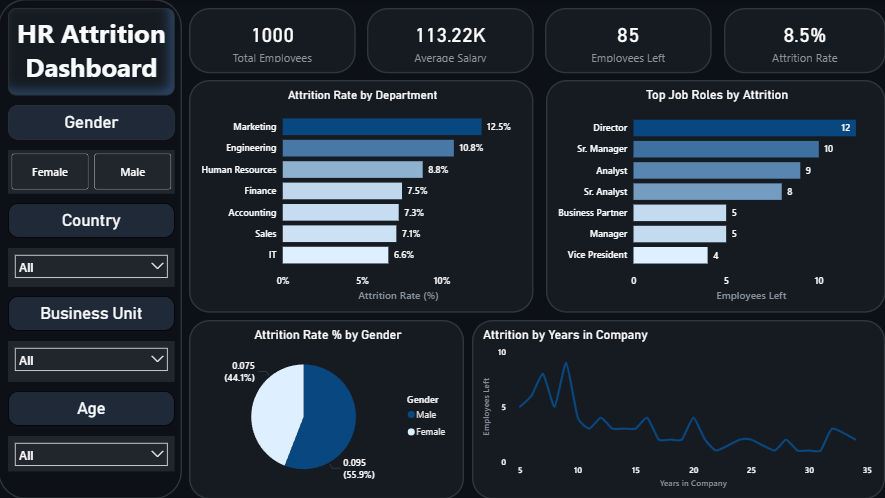

Layout of this report page (visuals, bound fields, positions):
{"tool":"powerbi","page":{"name":"HR Dashboard","canvas":[1280,720],"ordinal":0},"visuals":[{"type":"shape","box":[0,0,264.9,720],"z":0},{"type":"card","fields":{"Values":["TBL_Employees.Total Employees"]},"box":[275.1,13.2,240,93.7],"z":1000},{"type":"card","fields":{"Values":["TBL_Employees.Avg Salary"]},"box":[531.7,13.2,240,93.7],"z":2000},{"type":"card","fields":{"Values":["TBL_Employees.Attrition Count"]},"box":[788.3,13.2,240,93.7],"z":3000},{"type":"card","fields":{"Values":["TBL_Employees.Attrition Rate %"]},"box":[1044.9,13.2,232.7,93.7],"z":4000},{"type":"textbox","box":[14.6,13.2,240,125.9],"z":5000},{"type":"barChart","title":"Attrition Rate by Department","fields":{"Category":["TBL_Employees.Department"],"Y":["TBL_Employees.Attrition Rate %"]},"box":[275.1,117.1,496.1,335.1],"z":6000},{"type":"barChart","title":"Top Job Roles by Attrition","fields":{"Y":["TBL_Employees.Attrition Count"],"Category":["TBL_Employees.Job Title"]},"box":[788.8,117.1,488.8,335.1],"z":7000},{"type":"lineChart","title":"Attrition by Years in Company","fields":{"Category":["TBL_Employees.Years in Company"],"Y":["TBL_Employees.Attrition Count"]},"box":[275.1,462.4,1002.4,257.6],"z":8000},{"type":"advancedSlicerVisual","fields":{"Values":["TBL_Employees.Gender"]},"box":[14.6,217.3,240,62.9],"z":9000},{"type":"textbox","box":[14.6,153.2,240,50],"z":10000},{"type":"slicer","fields":{"Values":["TBL_Employees.Country"]},"box":[14.6,358.5,240,55.6],"z":11000},{"type":"textbox","box":[14.6,294.4,240,50],"z":12000},{"type":"slicer","fields":{"Values":["TBL_Employees.Business Unit"]},"box":[14.6,492.4,240,58.5],"z":13000},{"type":"slicer","fields":{"Values":["TBL_Employees.Age Group"]},"box":[14.6,629.3,240,51.2],"z":14000},{"type":"textbox","box":[14.6,428.3,240,50],"z":15000},{"type":"textbox","box":[14.6,565.1,240,50],"z":16000}]}

Visuals, with their boxes in screenshot pixels (x1, y1, x2, y2), scaled from the page's 1280x720 canvas onto the 885x498 screenshot:
shape: <bbox>0, 0, 183, 497</bbox>
card - TBL_Employees.Total Employees: <bbox>190, 9, 356, 74</bbox>
card - TBL_Employees.Avg Salary: <bbox>368, 9, 534, 74</bbox>
card - TBL_Employees.Attrition Count: <bbox>545, 9, 711, 74</bbox>
card - TBL_Employees.Attrition Rate %: <bbox>722, 9, 883, 74</bbox>
textbox: <bbox>10, 9, 176, 96</bbox>
"Attrition Rate by Department" barChart: <bbox>190, 81, 533, 313</bbox>
"Top Job Roles by Attrition" barChart: <bbox>545, 81, 883, 313</bbox>
"Attrition by Years in Company" lineChart: <bbox>190, 320, 883, 497</bbox>
advancedSlicerVisual - TBL_Employees.Gender: <bbox>10, 150, 176, 194</bbox>
textbox: <bbox>10, 106, 176, 141</bbox>
slicer - TBL_Employees.Country: <bbox>10, 248, 176, 286</bbox>
textbox: <bbox>10, 204, 176, 238</bbox>
slicer - TBL_Employees.Business Unit: <bbox>10, 341, 176, 381</bbox>
slicer - TBL_Employees.Age Group: <bbox>10, 435, 176, 471</bbox>
textbox: <bbox>10, 296, 176, 331</bbox>
textbox: <bbox>10, 391, 176, 425</bbox>
